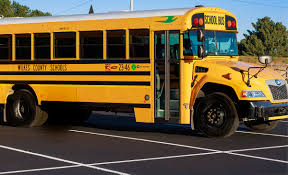bus: (1, 6, 287, 140)
